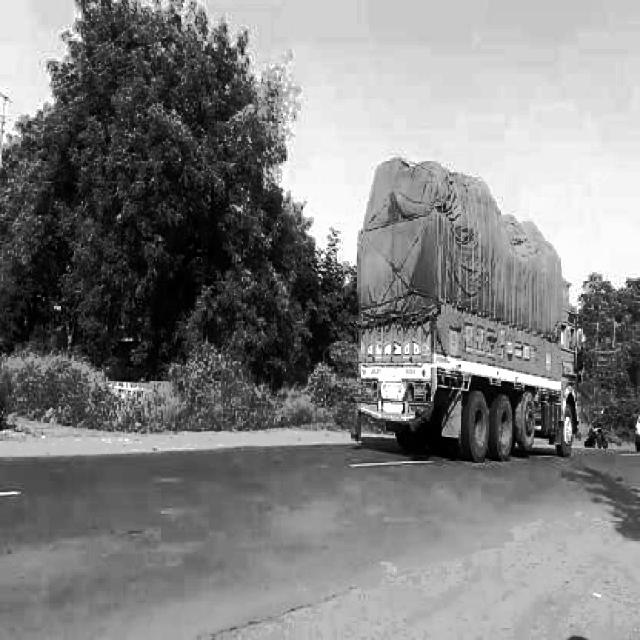HCV: (351, 160, 586, 447)
